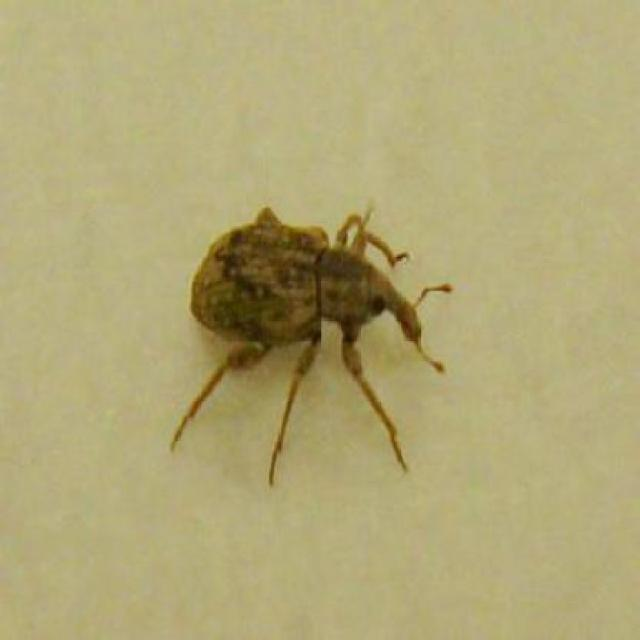rice-bug: (184, 201, 436, 421)
